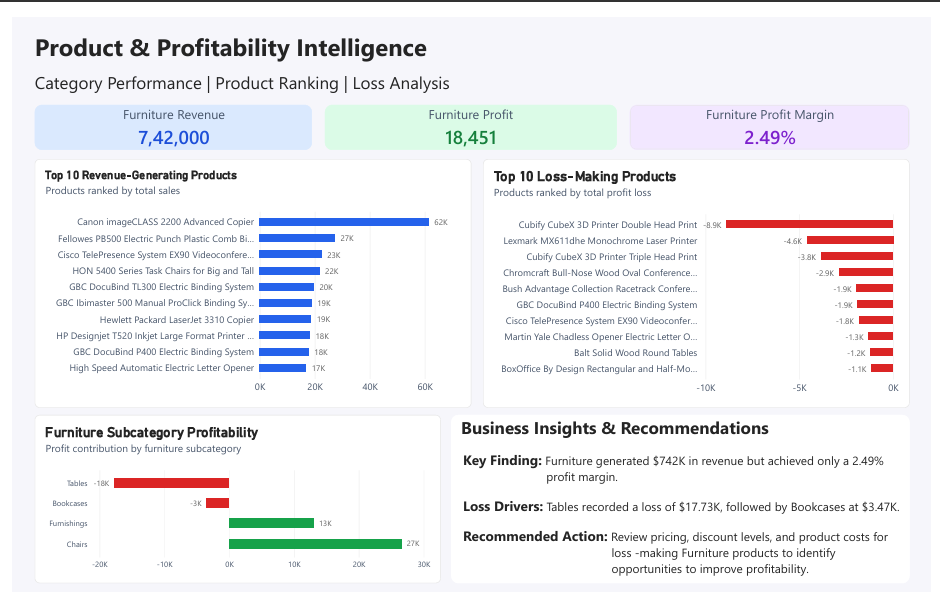

The dashboard page shown, as its layout file describes it:
{"tool":"powerbi","page":{"name":"Product & Profitability","canvas":[1440,900],"ordinal":1},"visuals":[{"type":"textbox","box":[35,20,1015,87.5],"z":0},{"type":"textbox","box":[35,83.3,1015,53.3],"z":1000},{"type":"cardVisual","fields":{"Data":["public superstore_raw.Furniture Revenue"]},"box":[35,136.7,435,71.7],"z":2000},{"type":"cardVisual","fields":{"Data":["public superstore_raw.Furniture Profit"]},"box":[490,136.7,458.3,71.7],"z":3000},{"type":"cardVisual","fields":{"Data":["public superstore_raw.Furniture Profit Margin"]},"box":[968.3,136.7,438.3,71.7],"z":4000},{"type":"clusteredBarChart","title":"Furniture Subcategory Profitability","fields":{"Category":["public superstore_raw.sub_category"],"Y":["public superstore_raw.Total Profit"]},"box":[35,623.3,636.7,263.3],"z":4001},{"type":"clusteredBarChart","title":"Top 10 Loss-Making Products","fields":{"Category":["public superstore_raw.product_name"],"Y":["public superstore_raw.Total Profit"]},"box":[738.3,221.7,668.3,390],"z":4002},{"type":"clusteredBarChart","title":"Top 10 Revenue-Generating Products","fields":{"Category":["public superstore_raw.product_name"],"Y":["public superstore_raw.Total Revenue"]},"box":[35,221.7,685,390],"z":4003},{"type":"textbox","box":[688.3,623.3,718.3,263.3],"z":4004}]}

Visuals, with their boxes on the page's 1440x900 design canvas (x1, y1, x2, y2). These are canvas units, not pixel positions in the 940x607 screenshot, which may show the page scaled, cropped or inside an application window:
textbox: BBox(35, 20, 1050, 108)
textbox: BBox(35, 83, 1050, 137)
cardVisual - public superstore_raw.Furniture Revenue: BBox(35, 137, 470, 208)
cardVisual - public superstore_raw.Furniture Profit: BBox(490, 137, 948, 208)
cardVisual - public superstore_raw.Furniture Profit Margin: BBox(968, 137, 1407, 208)
"Furniture Subcategory Profitability" clusteredBarChart: BBox(35, 623, 672, 887)
"Top 10 Loss-Making Products" clusteredBarChart: BBox(738, 222, 1407, 612)
"Top 10 Revenue-Generating Products" clusteredBarChart: BBox(35, 222, 720, 612)
textbox: BBox(688, 623, 1407, 887)
